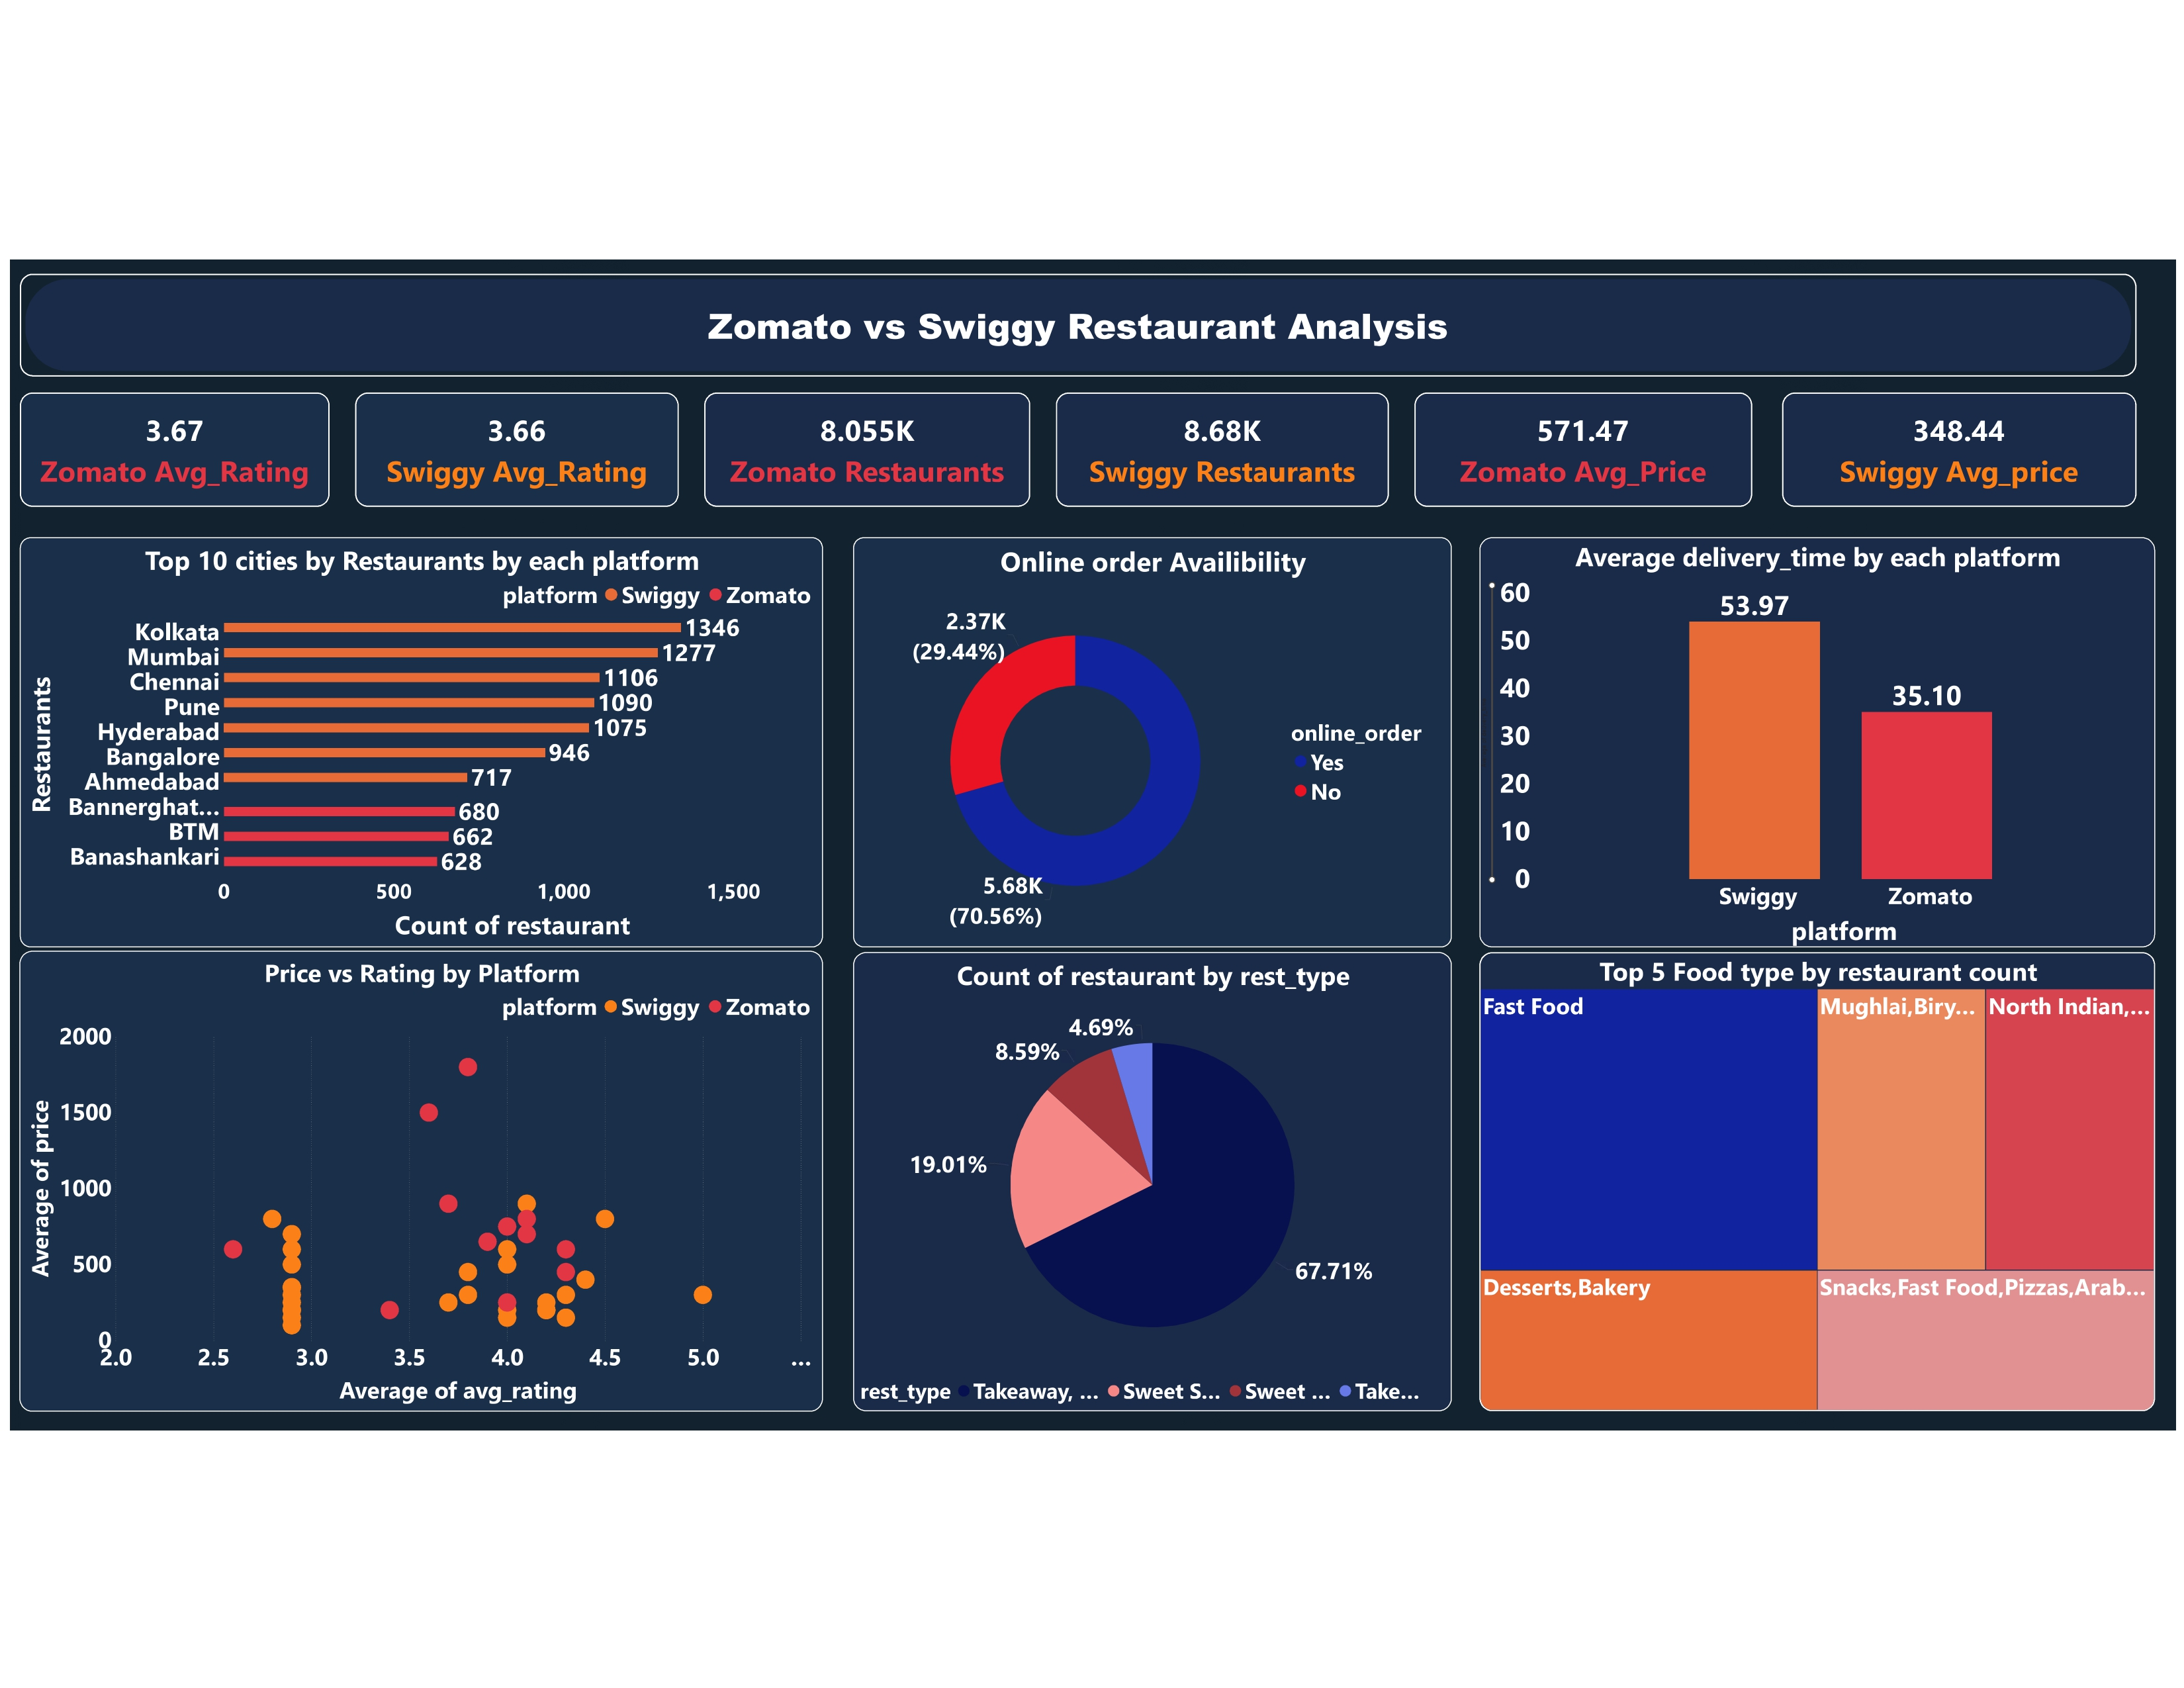

The page's visual inventory and layout, read from the dashboard file:
{"tool":"powerbi","page":{"name":"Page 1","canvas":[5000,2700],"ordinal":0},"visuals":[{"type":"cardVisual","fields":{"Data":["Avg(combined_data.avg_rating)"]},"box":[21.5,306.5,715.1,263.4],"z":0},{"type":"cardVisual","fields":{"Data":["Avg(combined_data.avg_rating)"]},"box":[795.7,306.5,747.3,263.4],"z":1000},{"type":"cardVisual","fields":{"Data":["CountNonNull(combined_data.restaurant)"]},"box":[1602.2,306.5,752.7,263.4],"z":2000},{"type":"cardVisual","fields":{"Data":["CountNonNull(combined_data.restaurant)"]},"box":[2414,306.5,768.8,263.4],"z":3000},{"type":"cardVisual","fields":{"Data":["Avg(combined_data.price)"]},"box":[3241.9,306.5,779.6,263.4],"z":4000},{"type":"cardVisual","fields":{"Data":["Avg(combined_data.price)"]},"box":[4091.4,306.5,817.2,263.4],"z":5000},{"type":"shape","title":"Zomato vs Swiggy Restaurant analysis","box":[21.5,32.3,4887.1,236.6],"z":6000},{"type":"clusteredBarChart","title":"Top 10 cities by Restaurants by each platform","fields":{"Category":["combined_data.city"],"Y":["CountNonNull(combined_data.restaurant)"],"Series":["combined_data.platform"]},"box":[21.5,639.8,1854.8,946.2],"z":7000},{"type":"donutChart","title":"Online order Availibility","fields":{"Y":["CountNonNull(combined_data.restaurant)"],"Category":["combined_data.online_order"],"Series":["combined_data.platform"]},"box":[1946.2,639.8,1381.7,946.2],"z":8000},{"type":"clusteredColumnChart","title":"Average  delivery_time by each platform","fields":{"Y":["Avg(combined_data.delivery_time)"],"Category":["combined_data.platform"]},"box":[3392.5,639.8,1559.1,946.2],"z":9000},{"type":"scatterChart","title":"Price vs Rating by Platform","fields":{"X":["Avg(combined_data.avg_rating)"],"Y":["combined_data.price"],"Series":["combined_data.platform"],"Category":["combined_data.restaurant"]},"box":[21.3,1594.5,1854.9,1063],"z":10000},{"type":"pieChart","fields":{"Y":["CountNonNull(combined_data.restaurant)"],"Category":["combined_data.rest_type"]},"box":[1946.2,1596.8,1381.7,1059.1],"z":11000},{"type":"treemap","title":"Top 5 Food type by restaurant count","fields":{"Group":["combined_data.food_type"],"Values":["CountNonNull(combined_data.restaurant)"]},"box":[3392.5,1596.8,1559.1,1059.1],"z":11001}]}

Visuals, with their boxes in screenshot pixels (x1, y1, x2, y2):
cardVisual - Avg(combined_data.avg_rating): pyautogui.locateOnScreen(4, 376, 323, 494)
cardVisual - Avg(combined_data.avg_rating): pyautogui.locateOnScreen(349, 376, 684, 494)
cardVisual - CountNonNull(combined_data.restaurant): pyautogui.locateOnScreen(710, 376, 1046, 494)
cardVisual - CountNonNull(combined_data.restaurant): pyautogui.locateOnScreen(1072, 376, 1416, 494)
cardVisual - Avg(combined_data.price): pyautogui.locateOnScreen(1442, 376, 1790, 494)
cardVisual - Avg(combined_data.price): pyautogui.locateOnScreen(1821, 376, 2183, 494)
"Zomato vs Swiggy Restaurant analysis" shape: pyautogui.locateOnScreen(4, 254, 2183, 359)
"Top 10 cities by Restaurants by each platform" clusteredBarChart: pyautogui.locateOnScreen(4, 525, 833, 947)
"Online order Availibility" donutChart: pyautogui.locateOnScreen(864, 525, 1480, 947)
"Average  delivery_time by each platform" clusteredColumnChart: pyautogui.locateOnScreen(1510, 525, 2183, 947)
"Price vs Rating by Platform" scatterChart: pyautogui.locateOnScreen(4, 951, 832, 1426)
pieChart - CountNonNull(combined_data.restaurant) x combined_data.rest_type: pyautogui.locateOnScreen(864, 952, 1480, 1425)
"Top 5 Food type by restaurant count" treemap: pyautogui.locateOnScreen(1510, 952, 2183, 1425)
